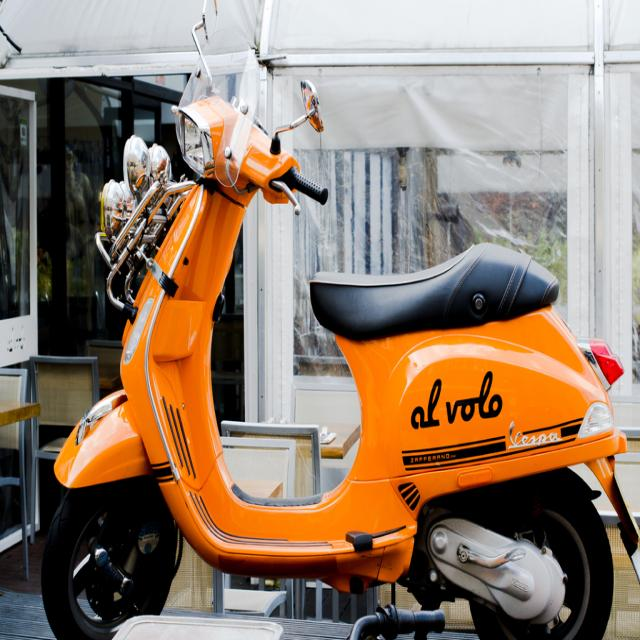Motorbikes: (40, 89, 625, 635)
